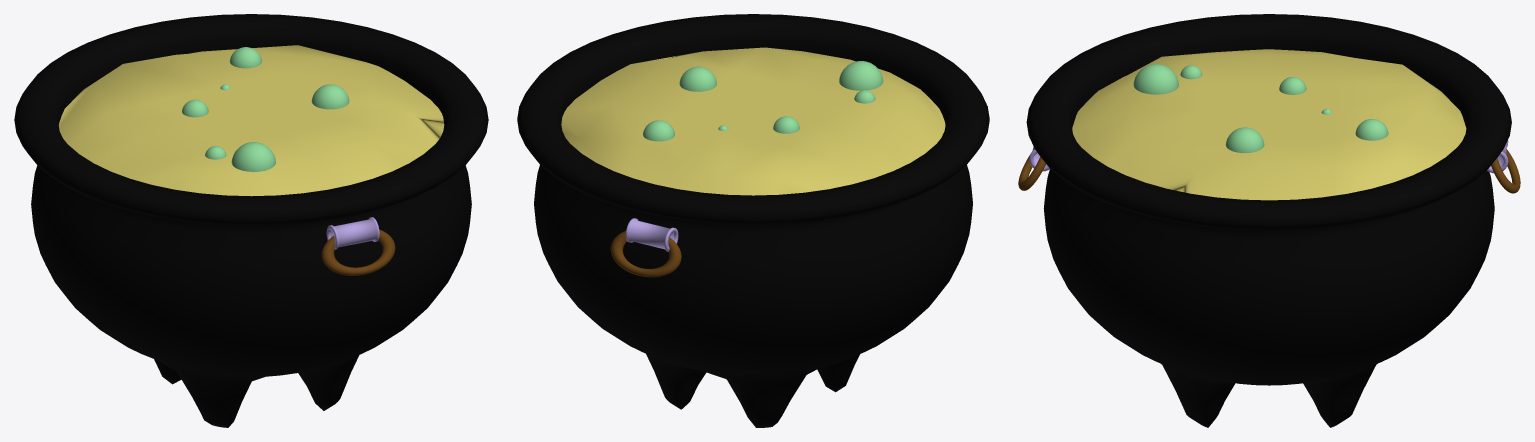
The model's file is Caldero_high.obj.
The picture shows the model from 3 angles, left to right: view 1: azimuth 30°, elevation 25°; view 2: azimuth 150°, elevation 25°; view 3: azimuth 270°, elevation 25°; orthographic projection. The views are drawn at different scales.
Parts seen in each view (by area): view 1: Caldero_low, Agua_low, Asa2_low, Enganche1_low, Burbuja3_low, Burbuja4_low, Burbuja6_low; view 2: Caldero_low, Agua_low, Asa1_low, Enganche2_low, Burbuja3_low, Burbuja4_low, Burbuja6_low; view 3: Caldero_low, Agua_low, Burbuja3_low, Burbuja4_low, Asa1_low, Burbuja6_low, Asa2_low.
Boxes of the visible parts, <box> form: Caldero_low: <box>14,14,488,427</box>; Agua_low: <box>58,45,444,196</box>; Asa2_low: <box>321,229,395,275</box>; Enganche1_low: <box>326,217,379,249</box>; Burbuja3_low: <box>231,142,275,171</box>; Burbuja4_low: <box>311,84,349,109</box>; Burbuja6_low: <box>229,47,261,68</box>; Caldero_low: <box>517,14,989,427</box>; Agua_low: <box>561,47,945,195</box>; Asa1_low: <box>610,230,681,277</box>; Enganche2_low: <box>625,218,678,251</box>; Burbuja3_low: <box>839,61,883,90</box>; Burbuja4_low: <box>679,66,716,91</box>; Burbuja6_low: <box>643,120,674,141</box>; Caldero_low: <box>1026,14,1511,427</box>; Agua_low: <box>1072,49,1466,200</box>; Burbuja3_low: <box>1133,64,1178,94</box>; Burbuja4_low: <box>1225,127,1264,153</box>; Asa1_low: <box>1491,149,1520,193</box>; Burbuja6_low: <box>1355,119,1388,140</box>; Asa2_low: <box>1018,155,1045,190</box>.
Size of the model in its own units: 87.05 by 61.52 by 90.06.
